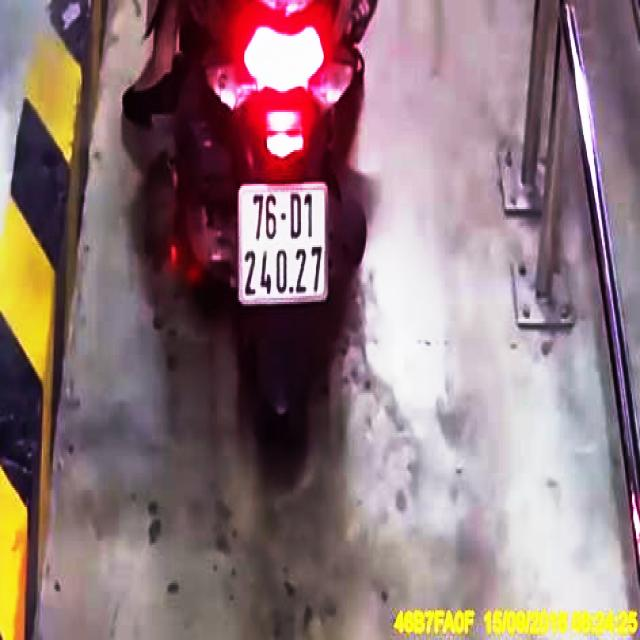license_plate: (239, 185, 327, 304)
